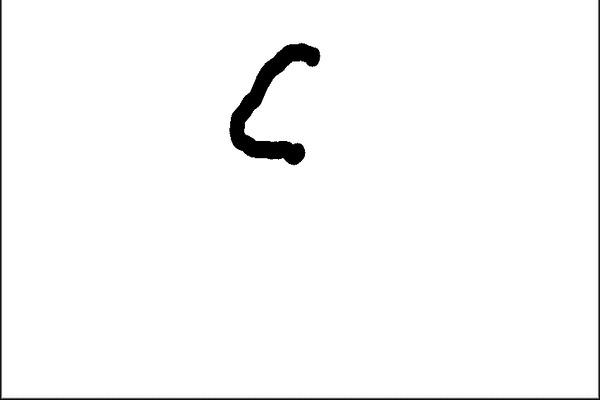C: (224, 36, 323, 165)
